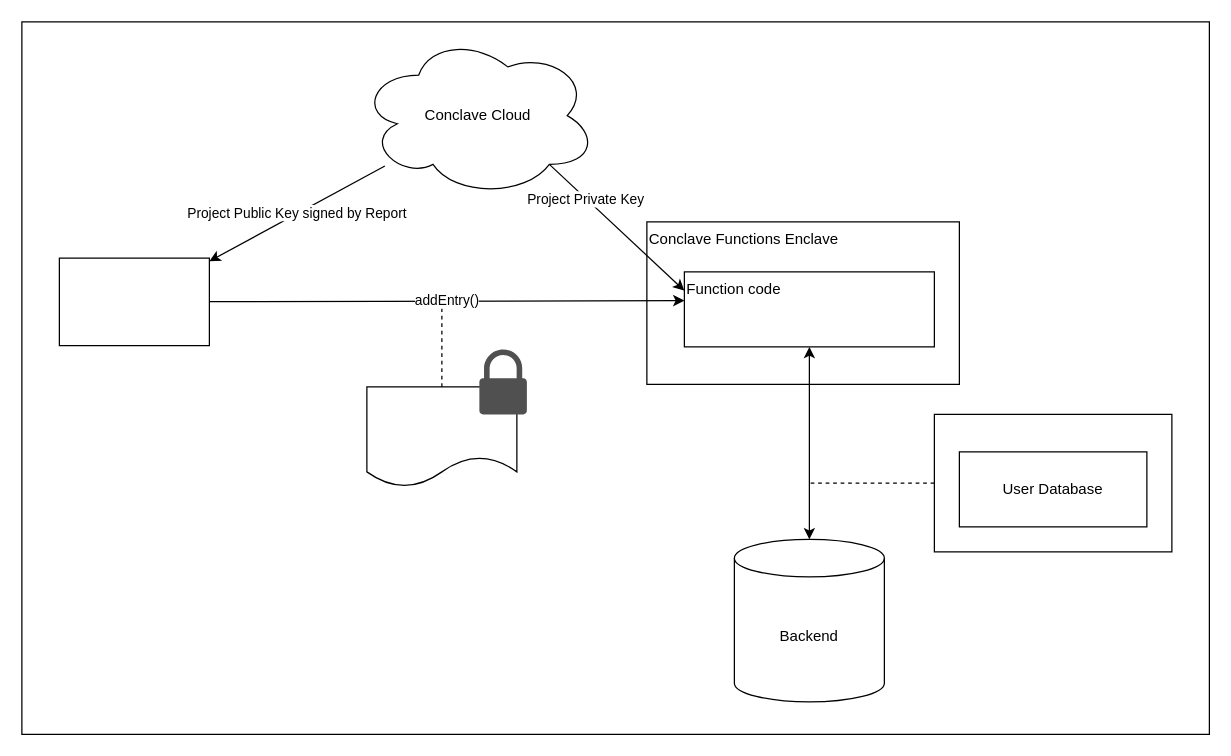
This 1231x756 diagram has some shape labels left out. The shapes that lost their labels are listed below. From the top down, each one's box as (x1, y1, x2, y2) in pixels, then its label:
(58, 257, 209, 346): Frontend
(366, 386, 517, 487): user_token: ... password: ... new_entry: ...
(933, 413, 1172, 552): {ProjectKey + User Password}
